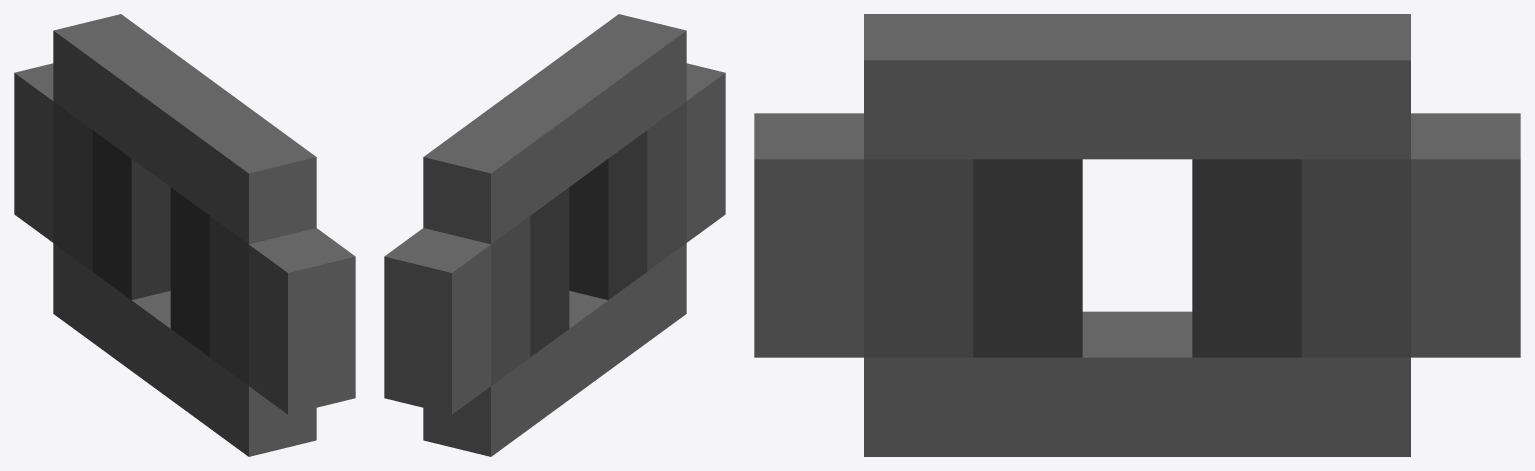
Rendered from Chain.obj.
3 renders of one model, left to right at view 1: azimuth 30°, elevation 25°; view 2: azimuth 150°, elevation 25°; view 3: azimuth 270°, elevation 25°, orthographic. The views are drawn at different scales.
Visible parts, largest first — view 1: Chain; view 2: Chain; view 3: Chain.
Part boxes in pixels (x1,y1,x2,y2): Chain: (14, 14, 355, 456); Chain: (384, 14, 725, 456); Chain: (754, 14, 1520, 456).
Size of the model in its own units: 1 by 4 by 7.
1 material, 1 textured.
